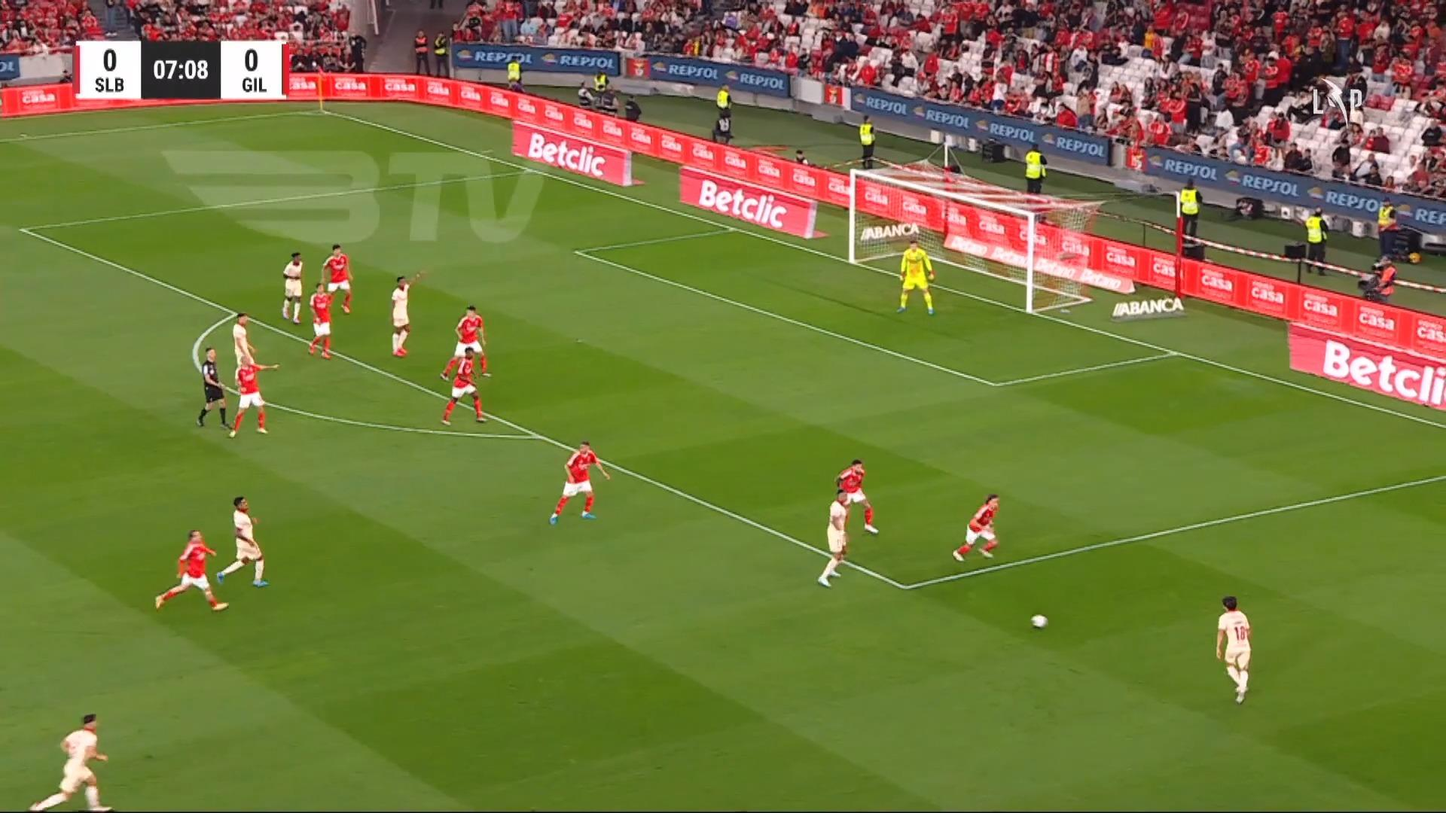ball: (1030, 614, 1047, 629)
goalkeeper: (895, 236, 935, 315)
player: (28, 712, 113, 811), (154, 528, 229, 611), (548, 440, 611, 525), (215, 495, 269, 587), (227, 354, 279, 437), (1215, 595, 1252, 704), (440, 304, 490, 380), (439, 346, 487, 425), (951, 492, 1000, 562), (835, 458, 879, 534), (816, 490, 850, 587), (389, 270, 423, 358), (321, 243, 353, 314), (307, 282, 334, 358), (281, 251, 304, 324), (232, 312, 258, 370)
referee: (195, 346, 230, 429)
